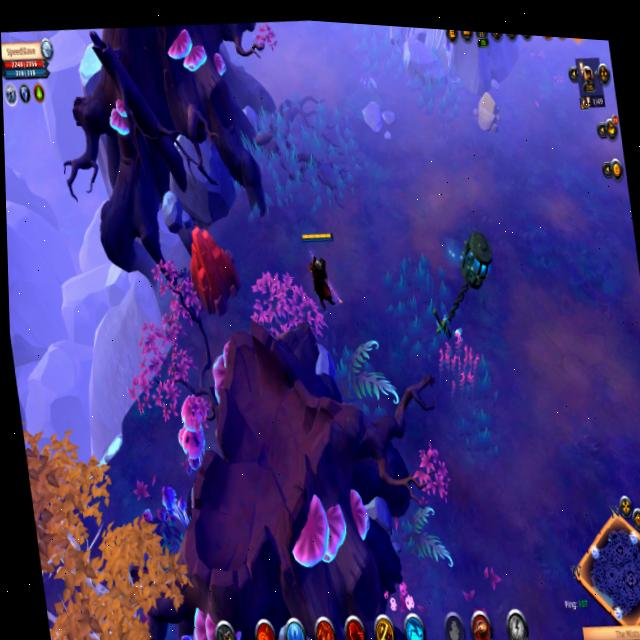10: (416, 217, 508, 350)
red: (296, 222, 346, 319)
tree: (181, 215, 247, 321)
wisp caged: (31, 478, 202, 640)
